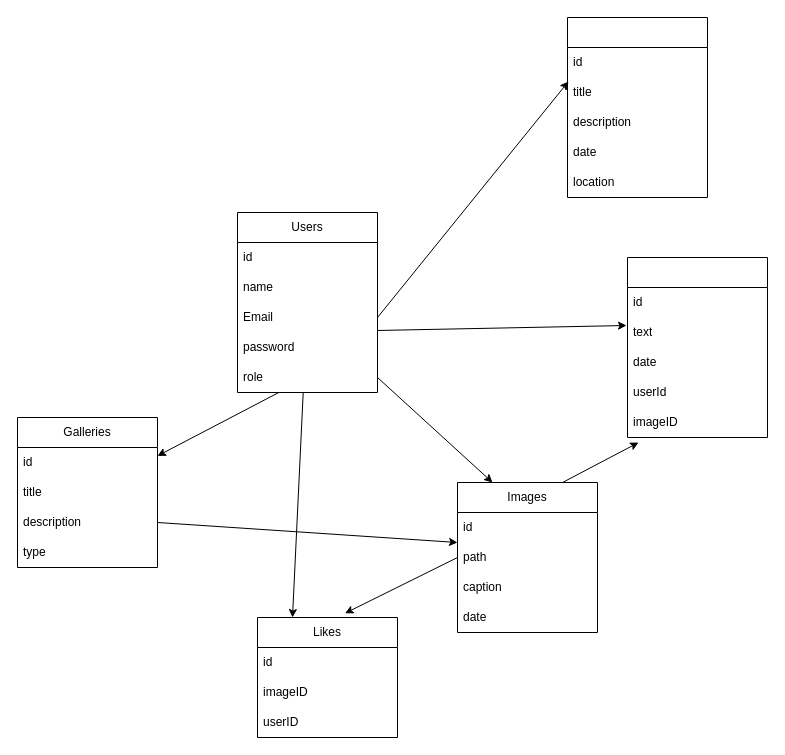
Some shapes in this 785 by 755 pixel diagram are drawn without their labels. The box of each missing label's shape, as (x1, y1, x2, y2) in pixels:
Comments: (626, 256, 768, 438)
Events: (566, 16, 708, 198)
